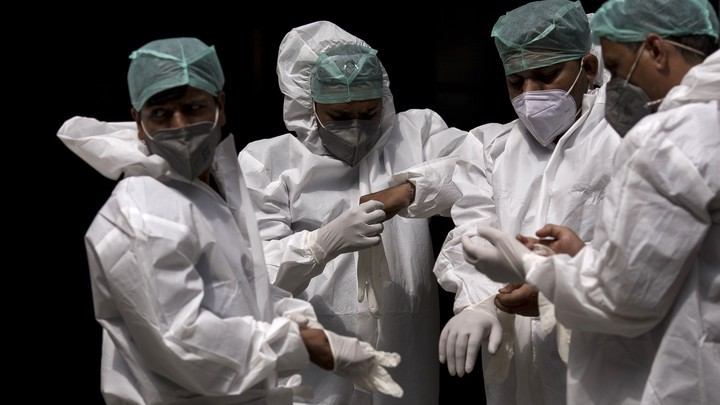Gloves: (320, 324, 406, 405), (437, 296, 507, 380), (310, 197, 386, 268), (461, 226, 537, 288)
with_mask: (503, 67, 581, 149), (599, 39, 662, 135), (143, 101, 217, 180), (318, 104, 380, 167)
